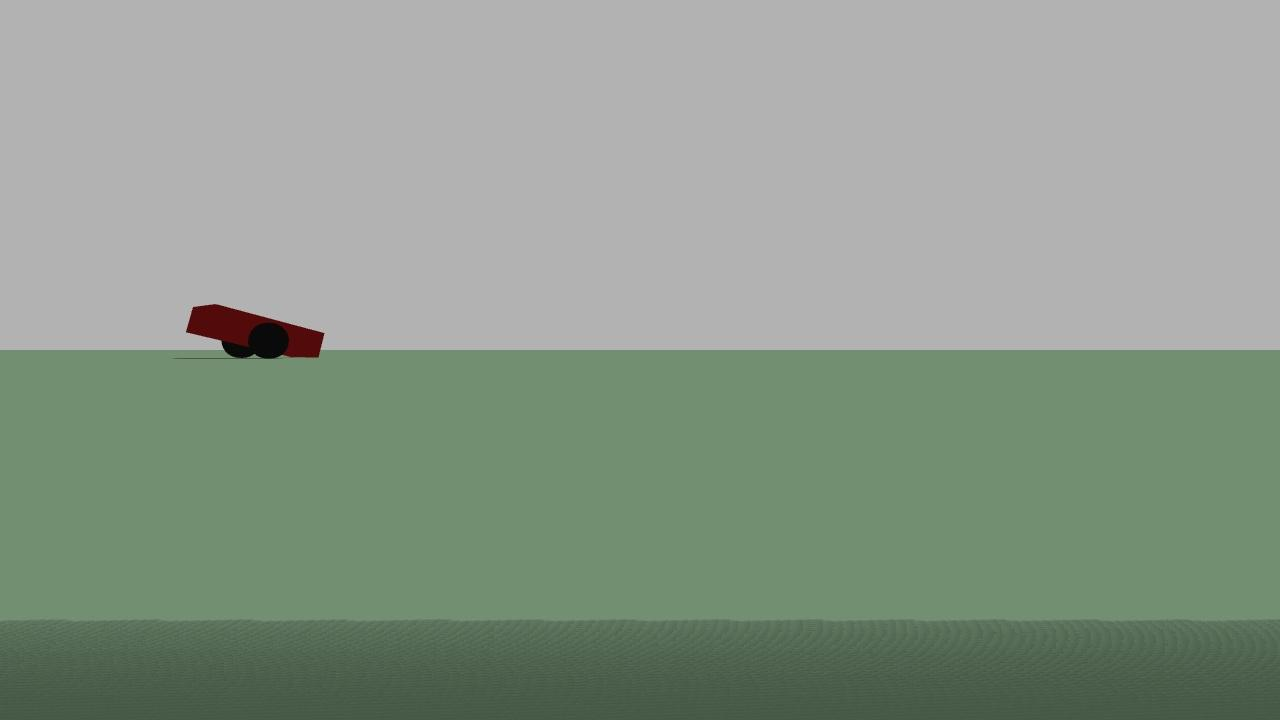ground_vehicle: (182, 294, 328, 369)
